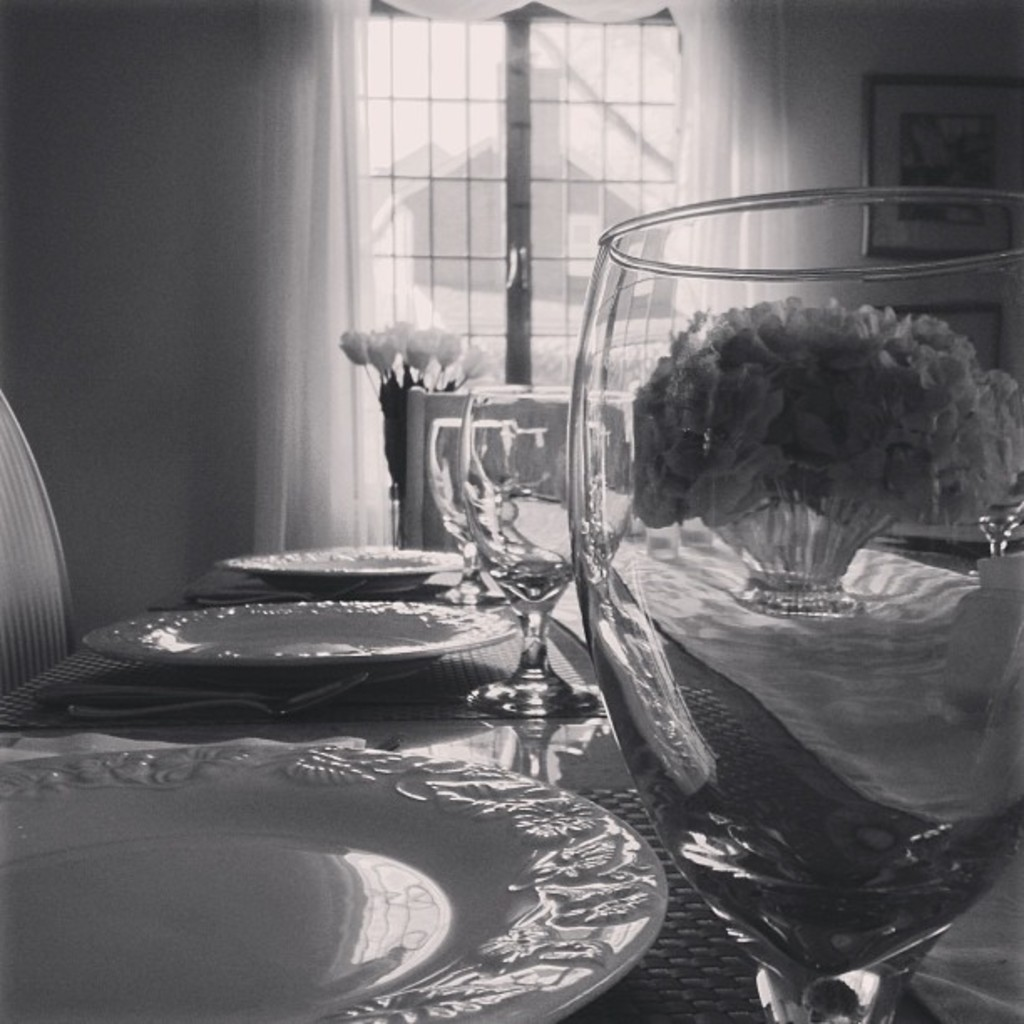plate: (0, 724, 660, 1022)
